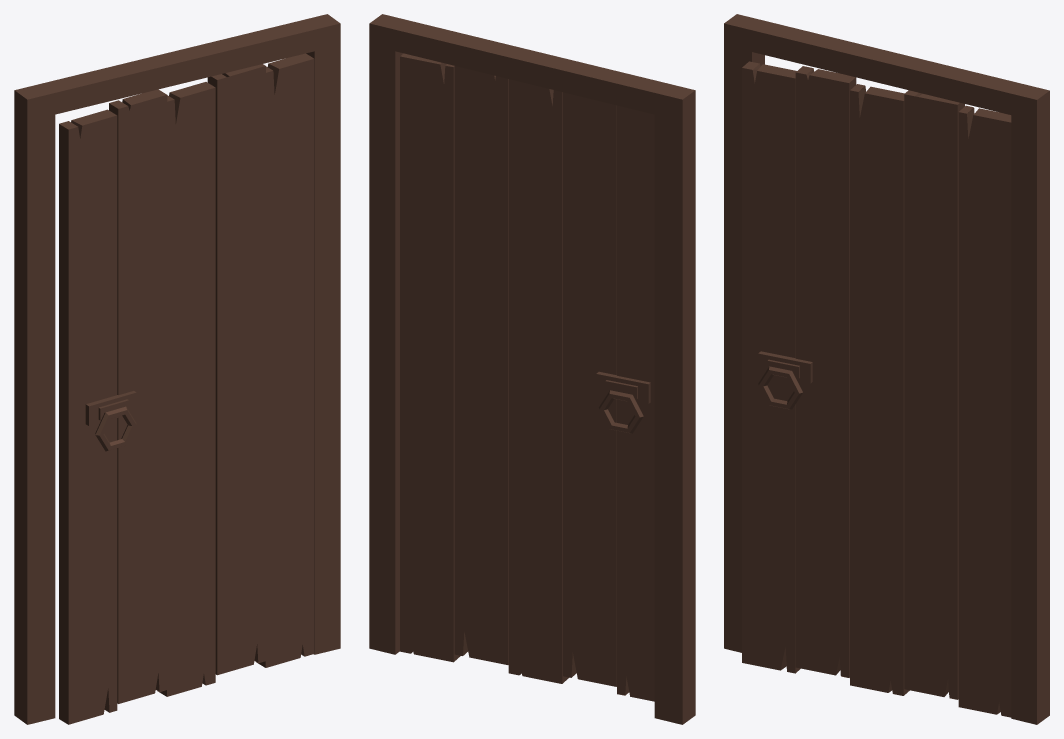
The model's file is wooden door.fbx.
The picture shows the model from 3 angles, left to right: view 1: azimuth 30°, elevation 25°; view 2: azimuth 150°, elevation 25°; view 3: azimuth 330°, elevation 25°; orthographic projection.
Visible parts, largest first — view 1: Door, Frame; view 2: Door, Frame; view 3: Door, Frame.
Boxes of the visible parts, x1,y1,x2,y2 form: Door: (59, 53, 314, 724); Frame: (14, 14, 340, 724); Door: (400, 53, 654, 701); Frame: (369, 14, 695, 724); Door: (742, 61, 1011, 717); Frame: (724, 14, 1049, 724).
Bounding box in the file's own units: 234 × 447 × 40.94.
